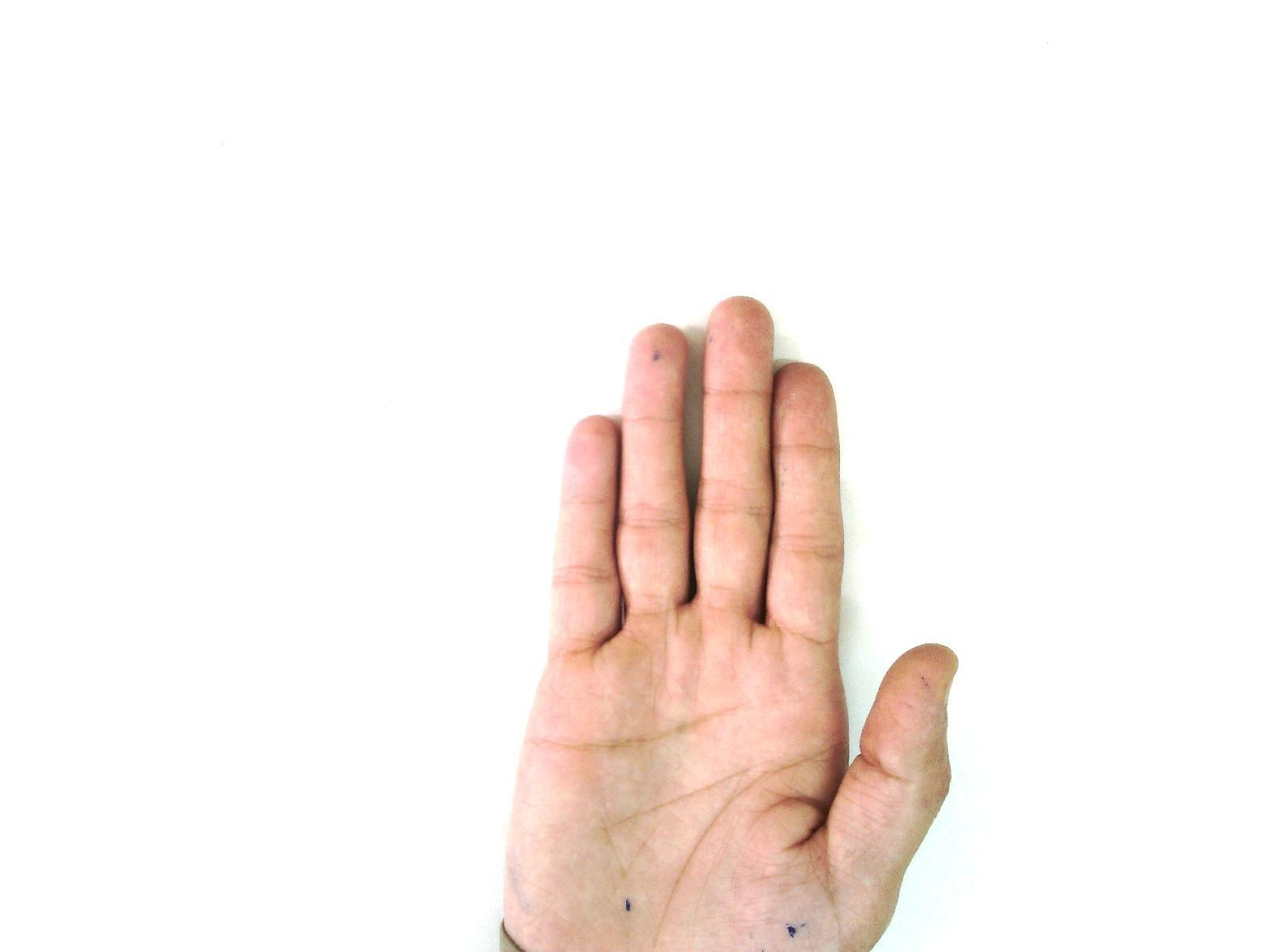open_palm: (496, 294, 961, 952)
